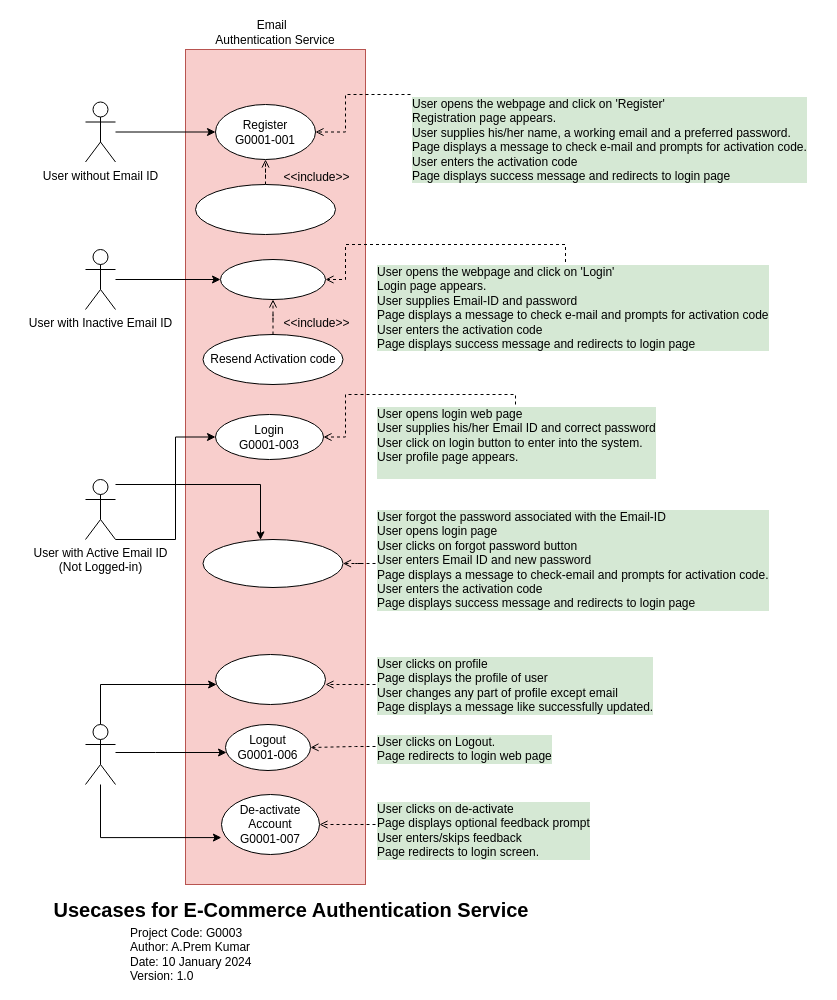
Image size: 837x1000. Some labels were removed from this diagram. The centre of each missing label's shape, as x and y in pixels:
Change Profile G0001-005: (270,679)
Login G0001-002: (273,279)
Reset Password G0001-004: (272,563)
Send Activation code: (265,209)
User with Active Email ID (Logged-in): (100,754)
